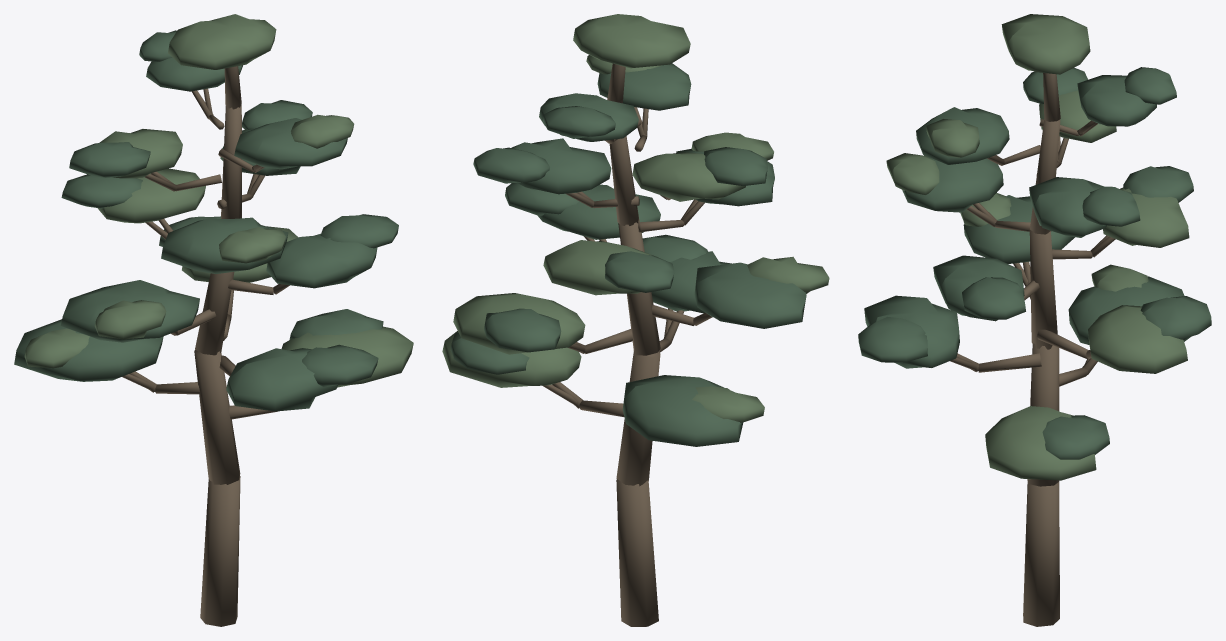
The model's file is shan-shui-pine.glb.
3 views of the same model, side by side, from view 1: azimuth 30°, elevation 25°; view 2: azimuth 150°, elevation 25°; view 3: azimuth 270°, elevation 25° (orthographic).
Parts seen in each view (by area): view 1: pine-needles, pine-tips, pine-bark; view 2: pine-needles, pine-tips, pine-bark; view 3: pine-needles, pine-tips, pine-bark.
Part boxes in pixels (x1,y1,x2,y2): pine-needles: (14, 30, 398, 411); pine-tips: (24, 14, 413, 387); pine-bark: (122, 66, 289, 626); pine-needles: (450, 63, 806, 446); pine-tips: (442, 14, 829, 422); pine-bark: (542, 63, 712, 626); pine-needles: (858, 67, 1211, 459); pine-tips: (886, 14, 1189, 480); pine-bark: (950, 73, 1115, 626).
Bounding box in the file's own units: 2.08 × 3.38 × 1.82.
